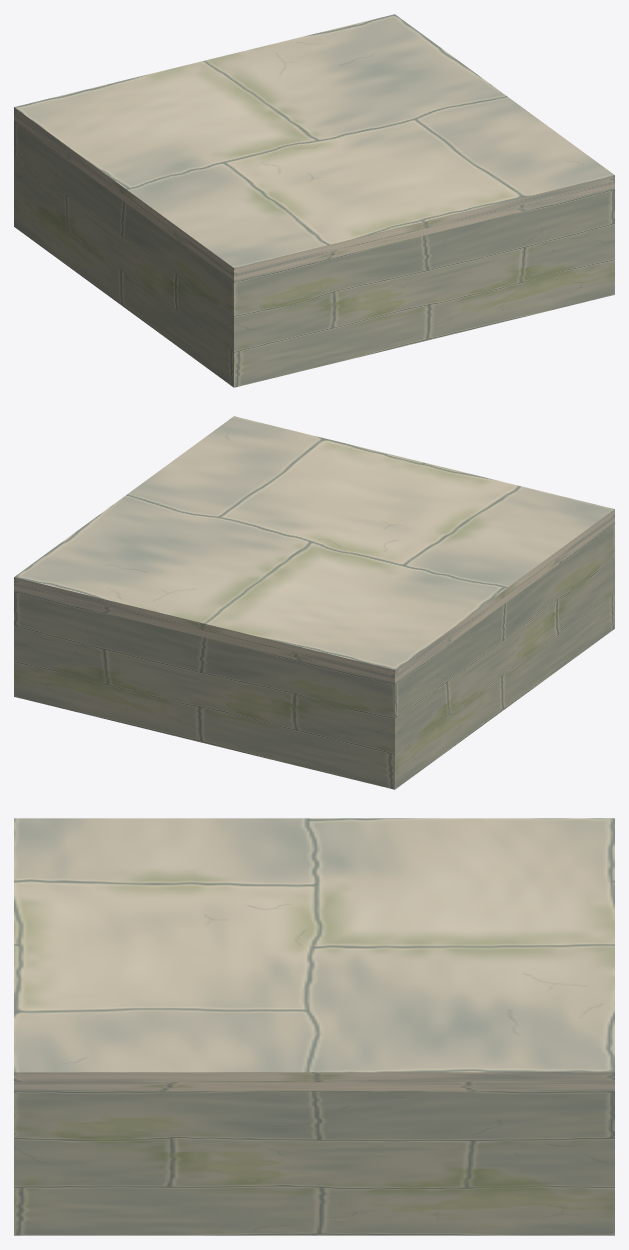
File: Terrace4.fbx
3 renders of one model, top to bottom at view 1: azimuth 30°, elevation 25°; view 2: azimuth 150°, elevation 25°; view 3: azimuth 270°, elevation 25°, orthographic. The views are drawn at different scales.
Visible parts, largest first — view 1: Terrace4; view 2: Terrace4; view 3: Terrace4.
Part boxes in pixels (x1,y1,x2,y2): Terrace4: [14, 14, 614, 387]; Terrace4: [14, 416, 614, 789]; Terrace4: [14, 818, 614, 1235].
Size of the model in its own units: 400 by 120 by 400.
Materials: 1 (1 with a texture image).
